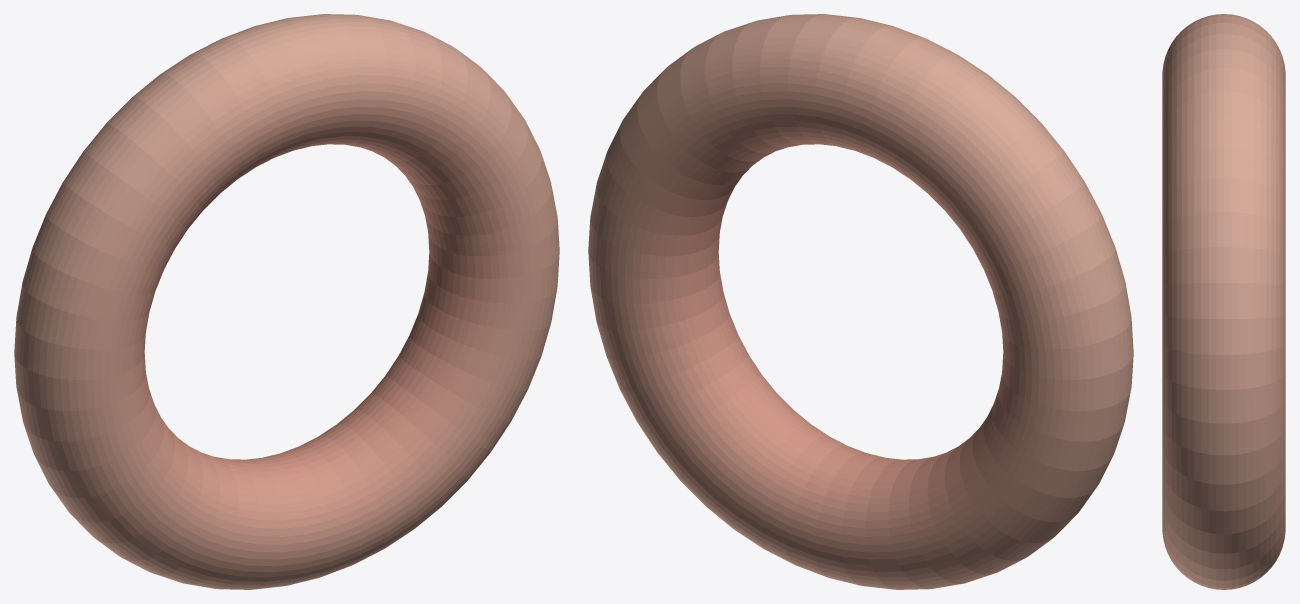
3 views of the same model, side by side, from view 1: azimuth 30°, elevation 25°; view 2: azimuth 150°, elevation 25°; view 3: azimuth 270°, elevation 25° (orthographic). The views are drawn at different scales.
Visible parts, largest first — view 1: world; view 2: world; view 3: world.
Boxes of the visible parts, box(x1,y1,x2,y2) form: world: box(14, 14, 559, 589); world: box(588, 14, 1133, 589); world: box(1162, 14, 1285, 589).
Bounding box in the file's own units: 30.53 × 30.47 × 6.52.
